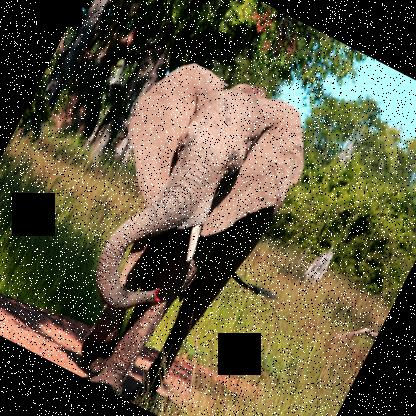Elephas-maximus: (14, 39, 330, 415)
